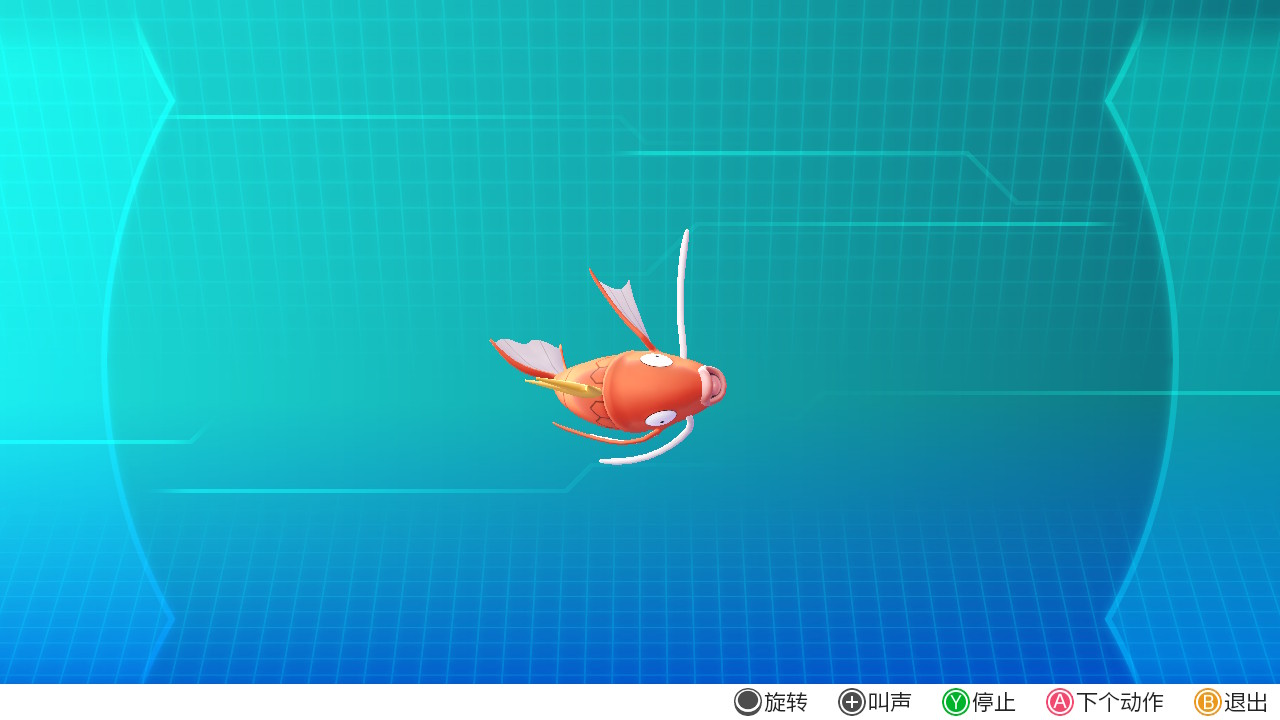Red: (495, 229, 729, 468)
